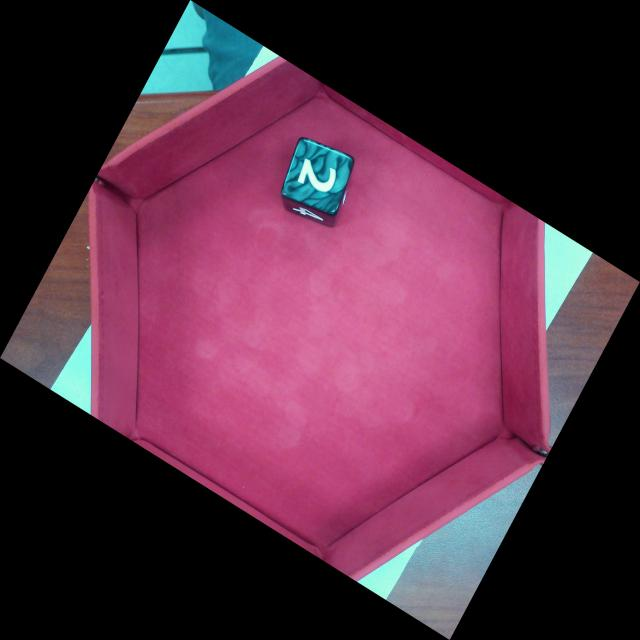dice: (284, 140, 352, 218)
